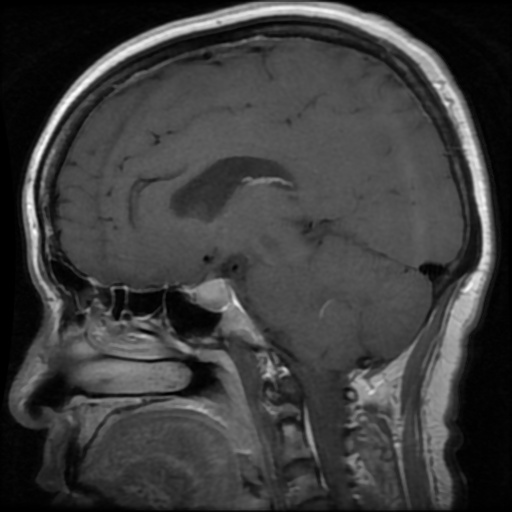pituitary: (195, 280, 230, 312)
